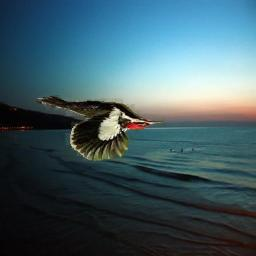Woodpecker: (36, 95, 166, 161)
